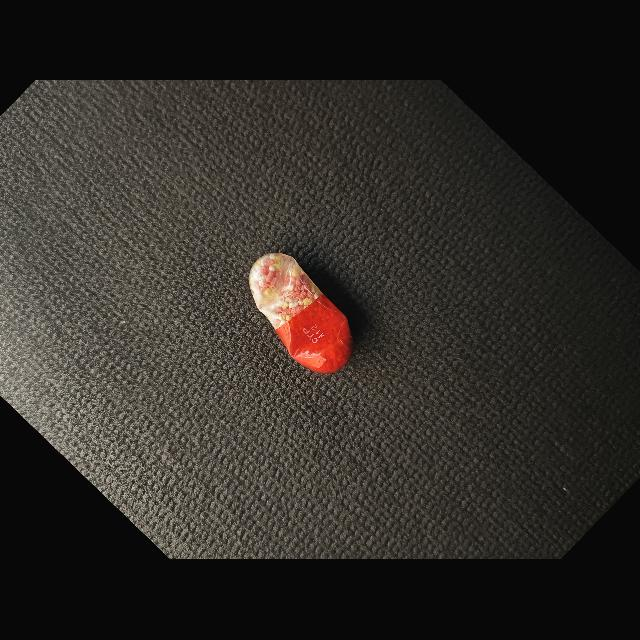Defective Capsule: (249, 253, 352, 374)
